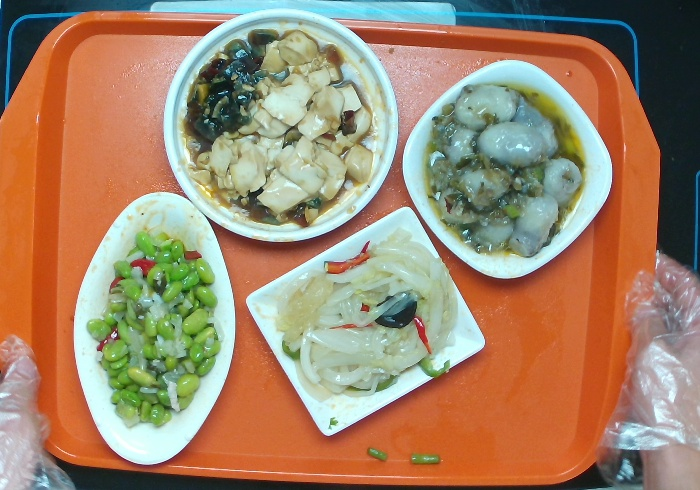HZYJPL-Si_Fang_Die: (249, 211, 492, 442)
HZYJPL-Si_Fang_Yuan_Die: (400, 58, 619, 283)
HZYJPL-Xiao_Yu_Die: (71, 191, 238, 470)
HZYJPL-Xiao_Yuan_Die: (162, 12, 399, 238)
